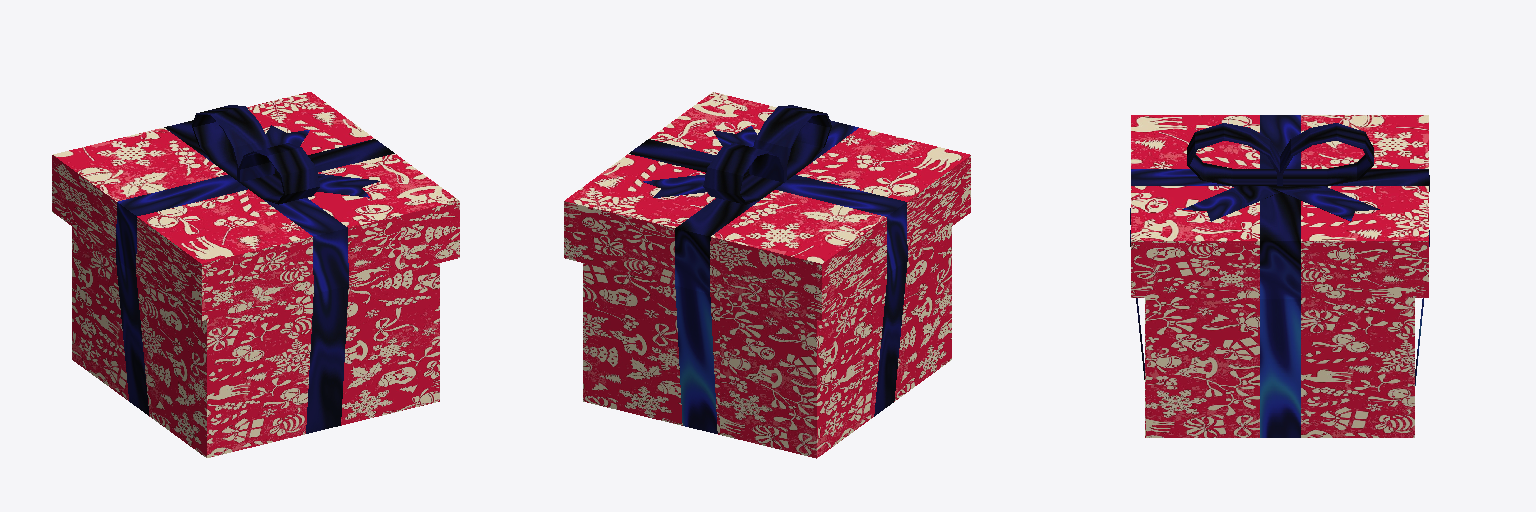
3 views of the same model, side by side, from view 1: azimuth 30°, elevation 25°; view 2: azimuth 150°, elevation 25°; view 3: azimuth 270°, elevation 25° (orthographic).
Visible parts, largest first — view 1: hat.002; view 2: hat.002; view 3: hat.002.
Part boxes in pixels (left/top/right/bottom): hat.002: left=52, top=92, right=459, bottom=457; hat.002: left=564, top=92, right=970, bottom=458; hat.002: left=1130, top=115, right=1429, bottom=437.
Bounding box in the file's own units: 2.22 × 2.04 × 2.22.
2 materials, 2 textured.